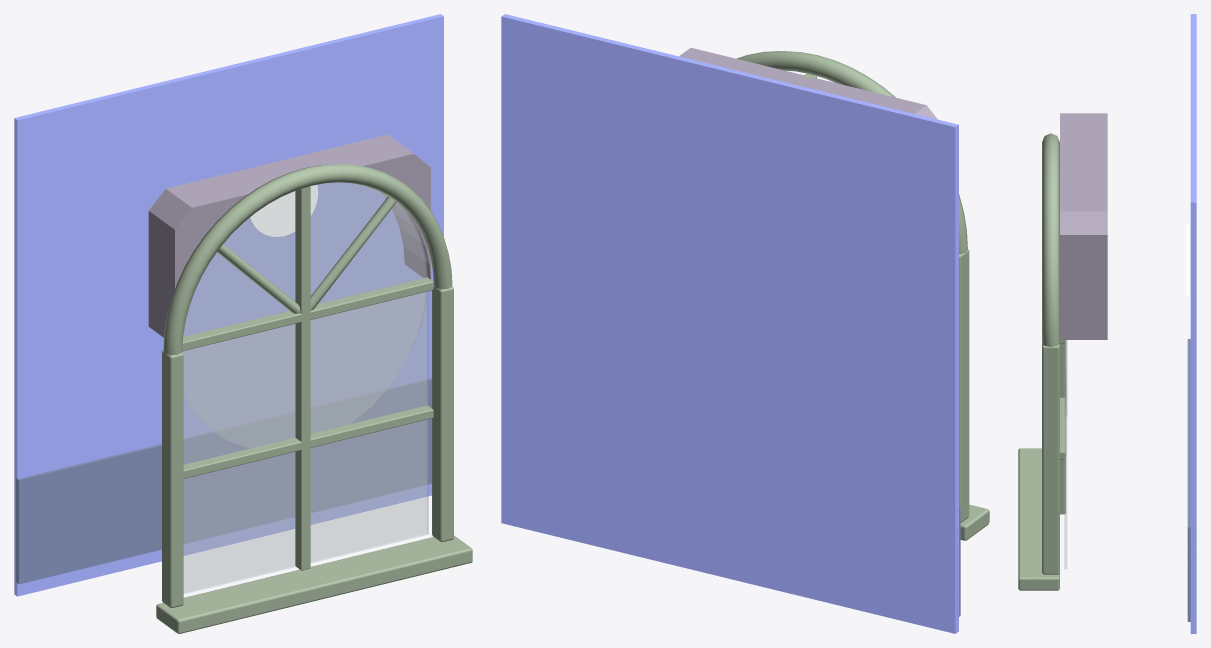
File: Arched_Window.fbx
3 views of the same model, side by side, from view 1: azimuth 30°, elevation 25°; view 2: azimuth 150°, elevation 25°; view 3: azimuth 270°, elevation 25° (orthographic). The views are drawn at different scales.
Parts seen in each view (by area): view 1: Arched_Window_Mesh; view 2: Arched_Window_Mesh; view 3: Arched_Window_Mesh.
Part boxes in pixels (<box>): Arched_Window_Mesh: <box>14,14,472,633</box>; Arched_Window_Mesh: <box>501,14,989,633</box>; Arched_Window_Mesh: <box>1018,14,1196,633</box>.
Size of the model in its own units: 1.5 by 1.6 by 0.6.
